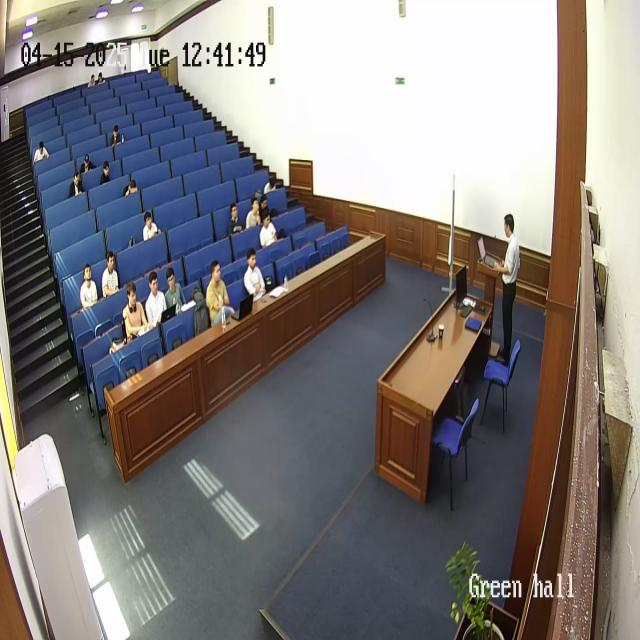person: (493, 213, 521, 363), (206, 260, 234, 326), (122, 281, 150, 340), (243, 248, 267, 303), (146, 268, 168, 328), (163, 268, 185, 318), (101, 250, 121, 298), (80, 262, 98, 310), (259, 209, 279, 248), (142, 209, 162, 243), (226, 202, 244, 236), (245, 197, 262, 232), (32, 140, 49, 166), (68, 171, 84, 197), (122, 175, 139, 197), (99, 159, 112, 184), (80, 153, 94, 176), (110, 124, 123, 148), (264, 173, 275, 195), (96, 66, 103, 88), (88, 73, 94, 85)
